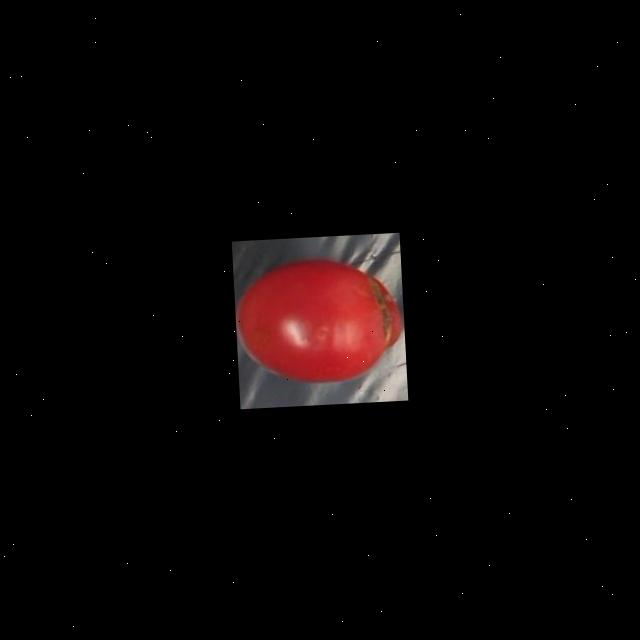tomato: (233, 250, 408, 388)
